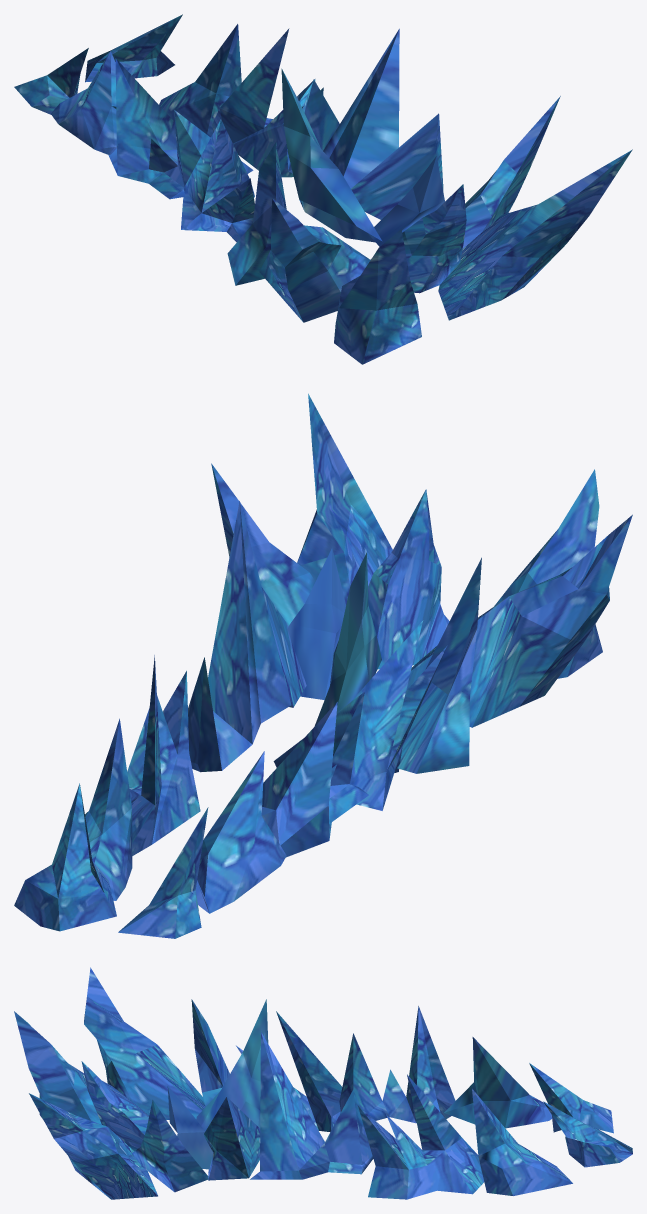
The model's file is crack.FBX.
3 views of the same model, one above another, from view 1: azimuth 30°, elevation 25°; view 2: azimuth 150°, elevation 25°; view 3: azimuth 270°, elevation 25° (orthographic). The views are drawn at different scales.
Visible parts, largest first — view 1: Object036, Object028, Object022, Object035, Object034, Object037, Object029, Object025, Object033, Object018, Object032, Object011 (+5 smaller); view 2: Object034, Object022, Object028, Object030, Object025, Object036, Object033, Object029, Object026, Object017, Object011, Object035 (+5 smaller); view 3: Object022, Object025, Object034, Object036, Object028, Object011, Object026, Object035, Object018, Object032, Object037, Object029 (+5 smaller).
Part boxes in pixels (x1=…): Object036: x1=438, y1=149, x2=632, y2=320; Object028: x1=108, y1=58, x2=253, y2=199; Object022: x1=287, y1=28, x2=399, y2=188; Object035: x1=334, y1=229, x2=421, y2=364; Object034: x1=259, y1=198, x2=370, y2=322; Object037: x1=281, y1=68, x2=382, y2=242; Object029: x1=181, y1=119, x2=254, y2=242; Object025: x1=212, y1=28, x2=323, y2=177; Object033: x1=370, y1=184, x2=466, y2=293; Object018: x1=351, y1=113, x2=443, y2=219; Object032: x1=462, y1=96, x2=560, y2=248; Object011: x1=159, y1=24, x2=241, y2=137; Object034: x1=406, y1=514, x2=632, y2=727; Object022: x1=188, y1=501, x2=291, y2=772; Object028: x1=261, y1=692, x2=368, y2=857; Object030: x1=397, y1=557, x2=481, y2=773; Object025: x1=127, y1=655, x2=200, y2=855; Object036: x1=297, y1=393, x2=449, y2=624; Object033: x1=368, y1=489, x2=447, y2=669; Object029: x1=349, y1=620, x2=447, y2=810; Object026: x1=195, y1=751, x2=286, y2=913; Object017: x1=14, y1=783, x2=116, y2=931; Object011: x1=85, y1=718, x2=132, y2=900; Object035: x1=494, y1=469, x2=602, y2=678; Object022: x1=250, y1=1032, x2=373, y2=1179; Object025: x1=357, y1=1074, x2=484, y2=1199; Object034: x1=84, y1=967, x2=205, y2=1119; Object036: x1=29, y1=1093, x2=157, y2=1199; Object028: x1=339, y1=1006, x2=455, y2=1123; Object011: x1=472, y1=1088, x2=572, y2=1195; Object026: x1=444, y1=1037, x2=552, y2=1128; Object035: x1=14, y1=1011, x2=101, y2=1124; Object018: x1=204, y1=1097, x2=260, y2=1180; Object032: x1=132, y1=1100, x2=208, y2=1192; Object037: x1=196, y1=999, x2=268, y2=1130; Object029: x1=236, y1=1011, x2=342, y2=1131.
Size of the model in its own units: 372 by 225 by 767.
Materials: 1 (1 with a texture image).
